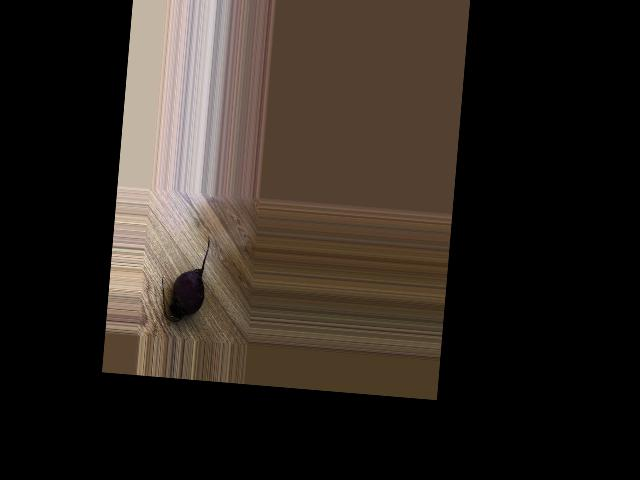beet: (159, 232, 210, 324)
